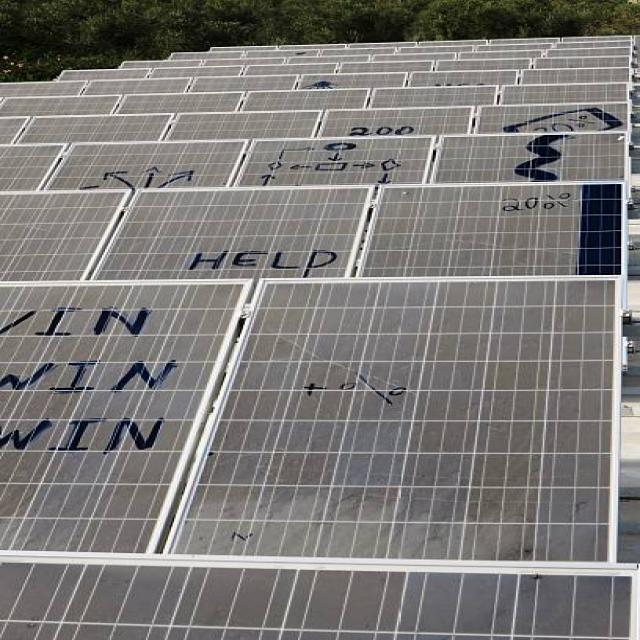faulty: (6, 86, 640, 640)
